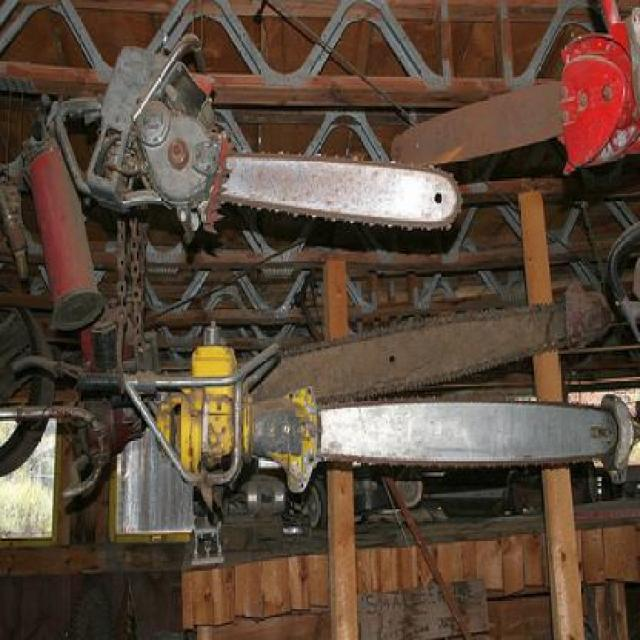Chainsaw: (52, 35, 460, 234), (123, 340, 640, 492)
